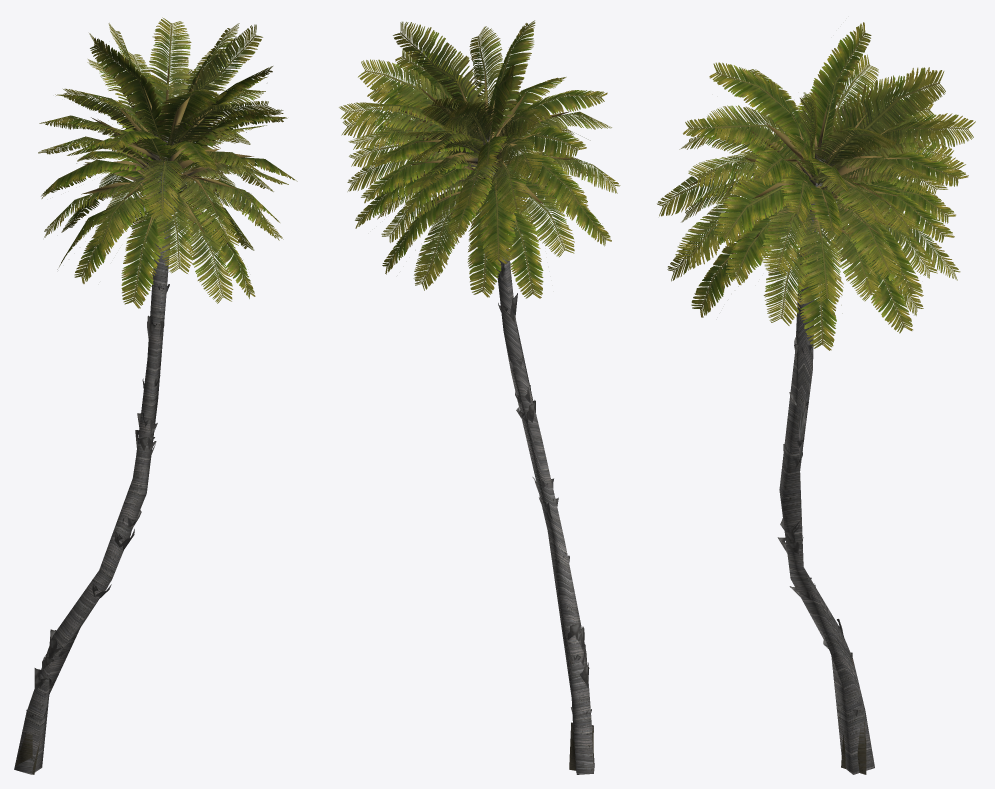
The model's file is cargo_palm_d_far.glb.
3 views of the same model, side by side, from view 1: azimuth 30°, elevation 25°; view 2: azimuth 150°, elevation 25°; view 3: azimuth 270°, elevation 25° (orthographic). The views are drawn at different scales.
Visible parts, largest first — view 1: KB3D_TIS_Palm_D_Main; view 2: KB3D_TIS_Palm_D_Main; view 3: KB3D_TIS_Palm_D_Main.
Part boxes in pixels (box(x1,y1,x2,y2)): KB3D_TIS_Palm_D_Main: box(14, 17, 297, 774); KB3D_TIS_Palm_D_Main: box(339, 20, 620, 774); KB3D_TIS_Palm_D_Main: box(657, 22, 975, 774).
Size of the model in its own units: 4.14 by 10.89 by 4.1.
1 material, 1 textured.
